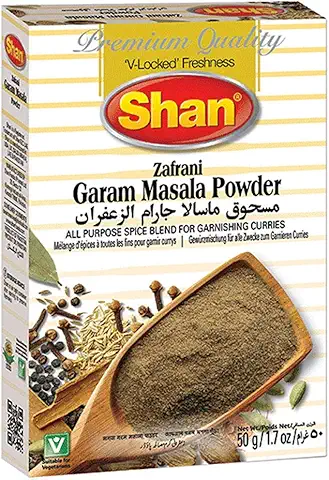Garamasala: (1, 5, 329, 468)
